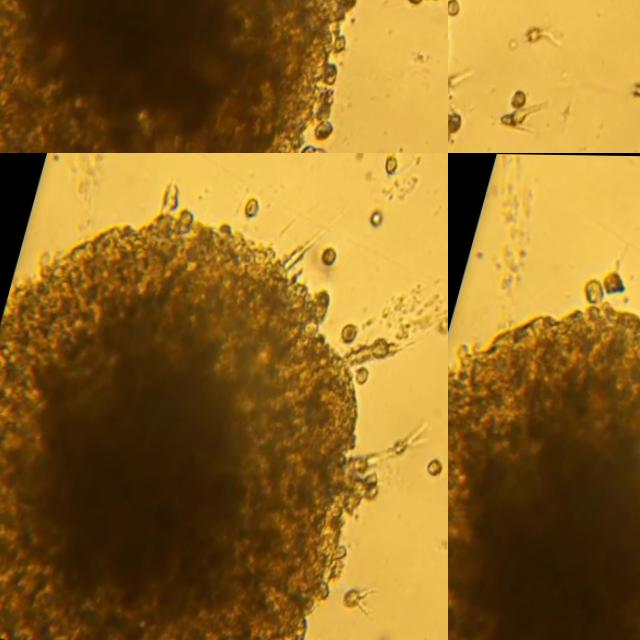cell: (343, 581, 377, 612), (502, 105, 549, 125), (603, 273, 630, 295), (580, 281, 605, 303), (340, 321, 360, 344), (511, 89, 529, 107), (526, 24, 545, 41), (244, 196, 259, 217), (369, 208, 385, 226), (384, 155, 399, 174), (429, 459, 446, 475), (322, 248, 337, 265), (448, 0, 463, 16), (355, 367, 370, 383), (313, 147, 330, 153), (304, 146, 316, 153)
tumor_mass: (0, 181, 433, 640), (448, 301, 640, 640)
